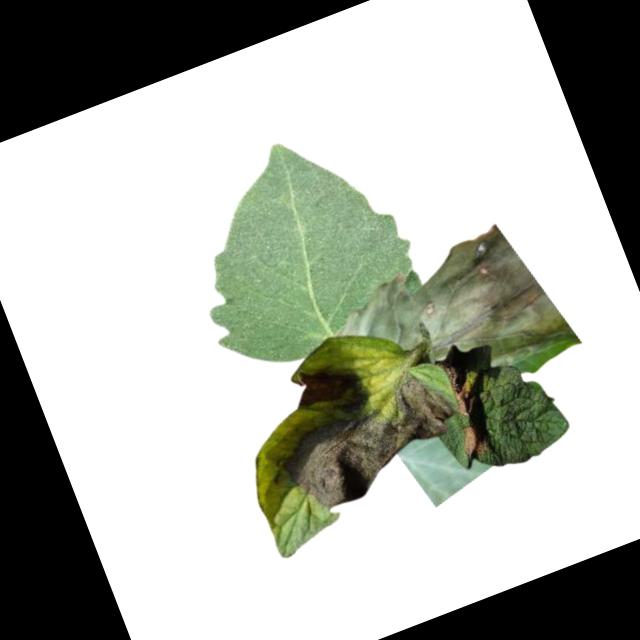Late_blight: (321, 213, 581, 417), (272, 370, 471, 519), (286, 355, 360, 416), (457, 420, 496, 461), (448, 378, 481, 419)
